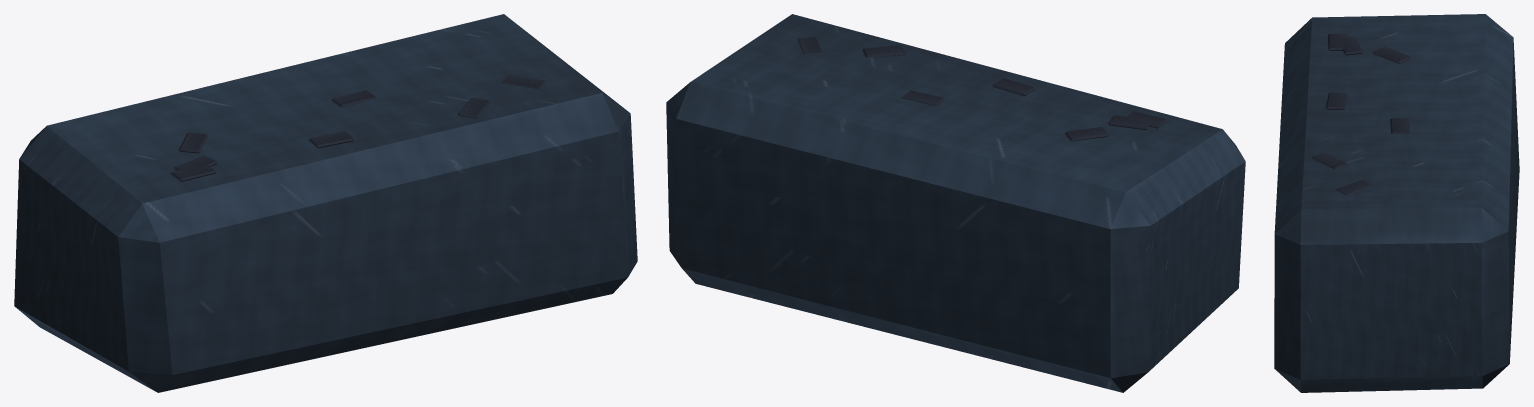
File: iron-ingot-0.glb
3 renders of one model, left to right at view 1: azimuth 30°, elevation 25°; view 2: azimuth 150°, elevation 25°; view 3: azimuth 270°, elevation 25°, orthographic. The views are drawn at different scales.
Parts seen in each view (by area): view 1: Hammered iron billet; view 2: Hammered iron billet; view 3: Hammered iron billet, Scale scar, Scale scar.004, Scale scar.003, Scale scar.001, Scale scar.002, Scale scar.005, Scale scar.006.
Part boxes in pixels (x1=…): Hammered iron billet: x1=14, y1=14, x2=637, y2=392; Hammered iron billet: x1=666, y1=14, x2=1245, y2=392; Hammered iron billet: x1=1274, y1=14, x2=1519, y2=392; Scale scar: x1=1372, y1=46, x2=1410, y2=63; Scale scar.004: x1=1312, y1=152, x2=1348, y2=169; Scale scar.003: x1=1325, y1=92, x2=1347, y2=109; Scale scar.001: x1=1390, y1=117, x2=1409, y2=134; Scale scar.002: x1=1338, y1=37, x2=1362, y2=55; Scale scar.005: x1=1335, y1=180, x2=1372, y2=195; Scale scar.006: x1=1328, y1=33, x2=1347, y2=50.
Bounding box in the file's own units: 0.4899 × 0.1891 × 0.2294.
1 material, 1 textured.
